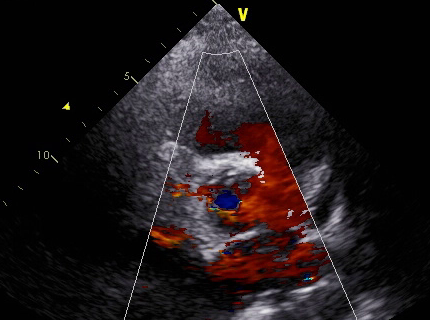PR: (241, 131, 313, 223)
